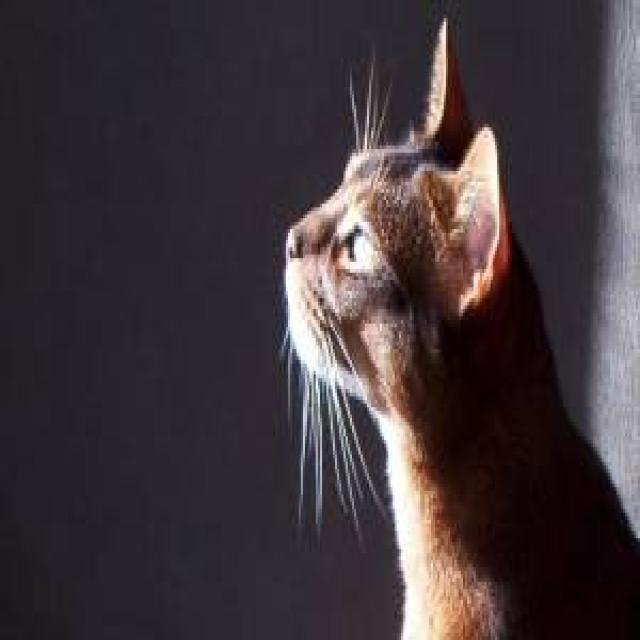Abyssinian: (282, 15, 508, 397)
